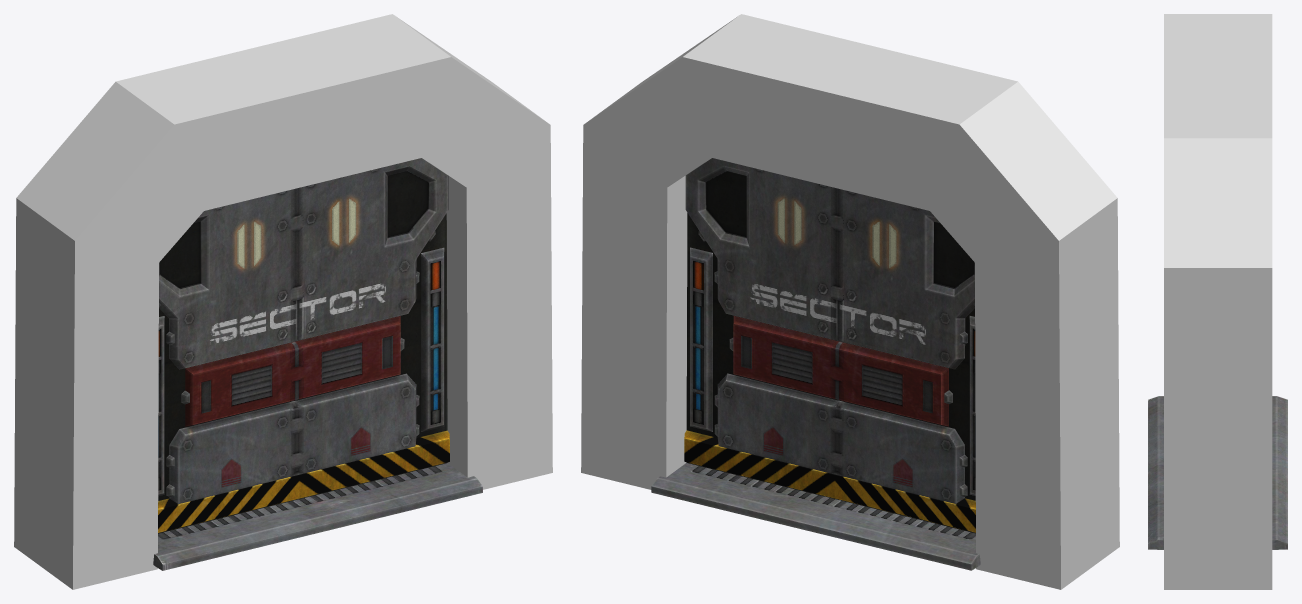
Rendered from SF_Door.fbx.
3 renders of one model, left to right at view 1: azimuth 30°, elevation 25°; view 2: azimuth 150°, elevation 25°; view 3: azimuth 270°, elevation 25°, orthographic. The views are drawn at different scales.
Visible parts, largest first — view 1: frame_col, door, base; view 2: frame_col, door, base; view 3: frame_col, base.
Boxes of the visible parts, x1,y1,x2,y2 form: frame_col: (14,14,552,589); door: (158,158,449,533); base: (153,463,482,570); frame_col: (581,14,1119,589); door: (684,158,975,533); base: (651,463,980,570); frame_col: (1164,14,1272,589); base: (1148,396,1287,549).
Bounding box in the file's own units: 7.39 × 6.48 × 2.02.
